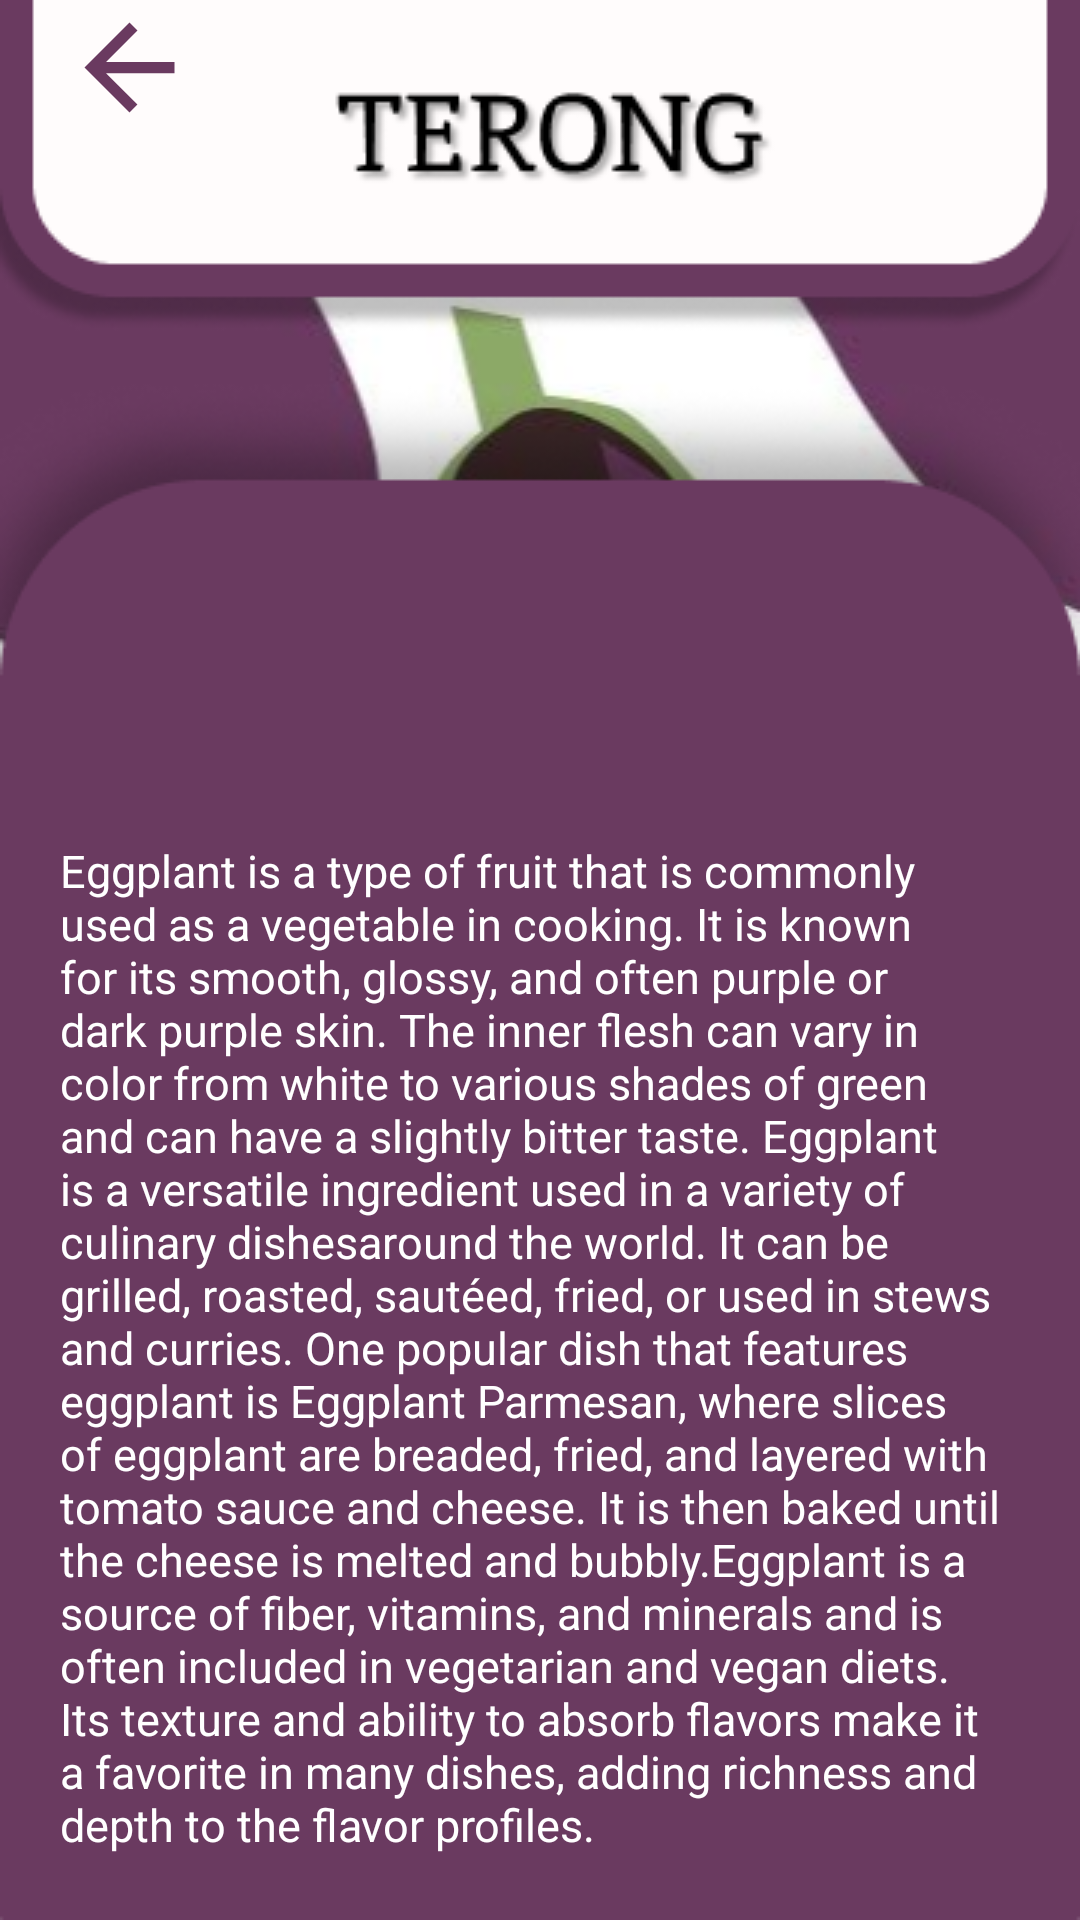

Icons on this 1080w x 1920h Android screen, each with its box as (x1, y1, x2, y2):
arrow back: (84, 22, 175, 113)
